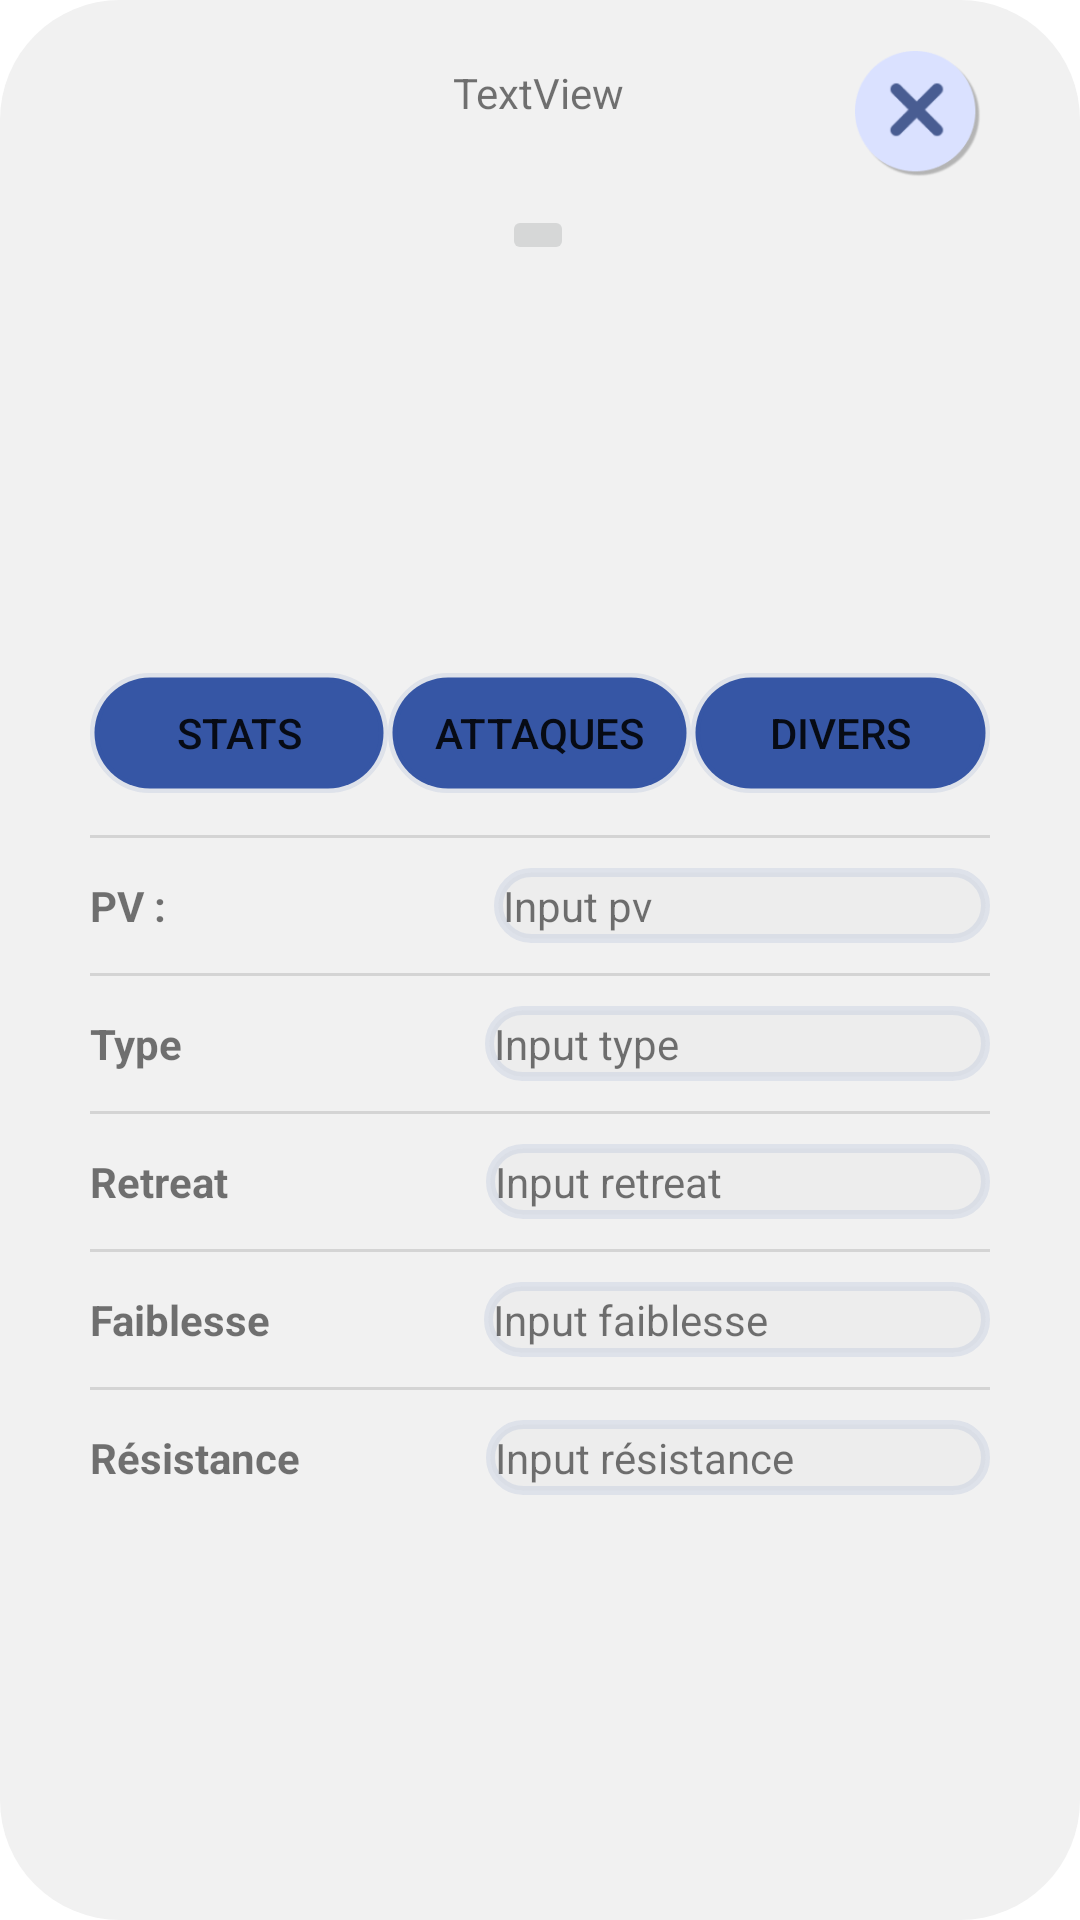

Point at icon controls on the screen. Image size 1080*1920, points as (x=x, y=y).
close: (x=917, y=113)
